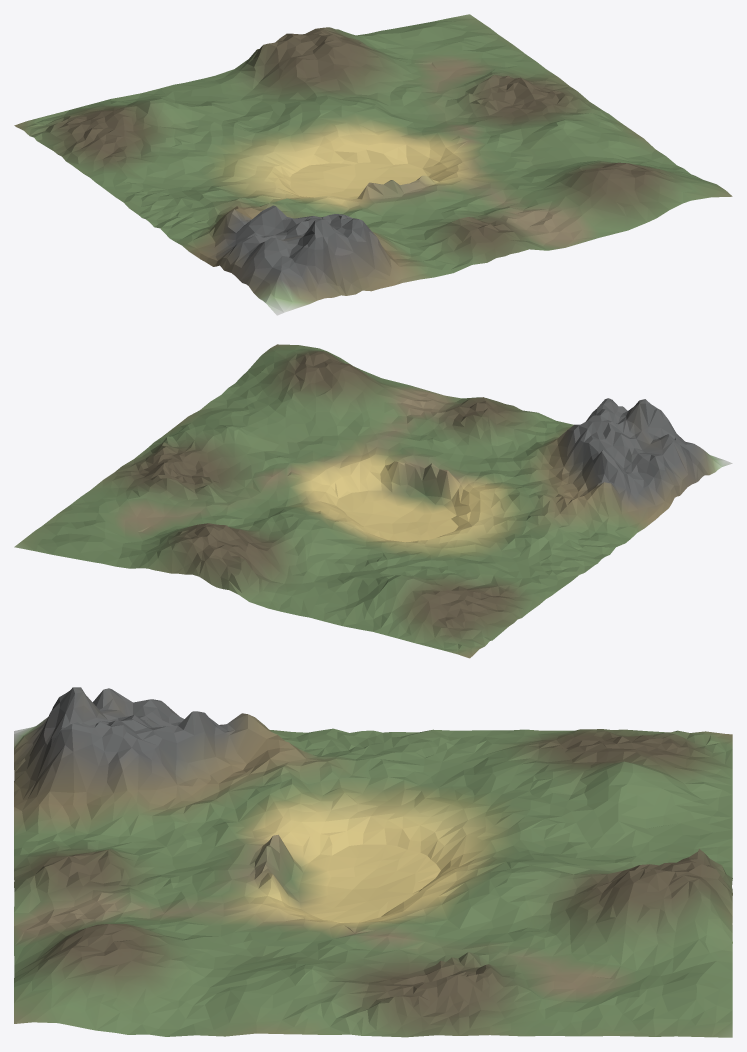
File: terrain2.fbx
3 renders of one model, top to bottom at view 1: azimuth 30°, elevation 25°; view 2: azimuth 150°, elevation 25°; view 3: azimuth 270°, elevation 25°, orthographic. The views are drawn at different scales.
Parts seen in each view (by area): view 1: Terrain; view 2: Terrain; view 3: Terrain.
Part boxes in pixels (x1,y1,x2,y2): Terrain: (14,14,732,315); Terrain: (14,344,732,658); Terrain: (14,687,732,1037).
Size of the model in its own units: 80063 by 13182 by 80044.
